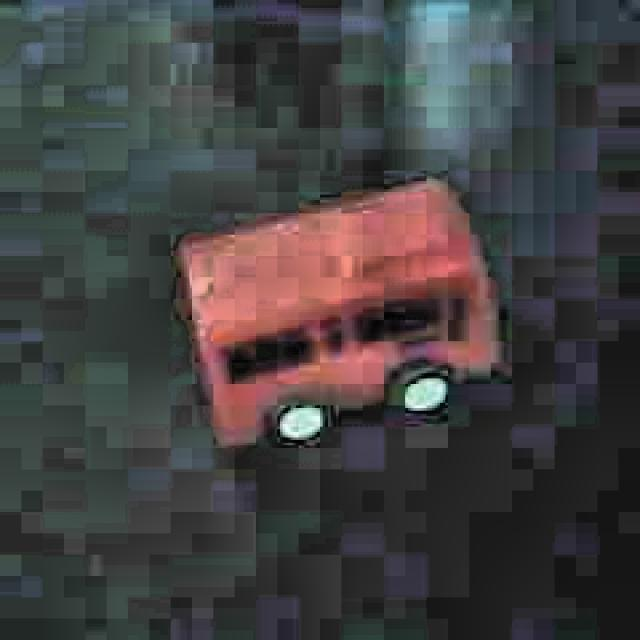bus: (170, 169, 508, 445)
